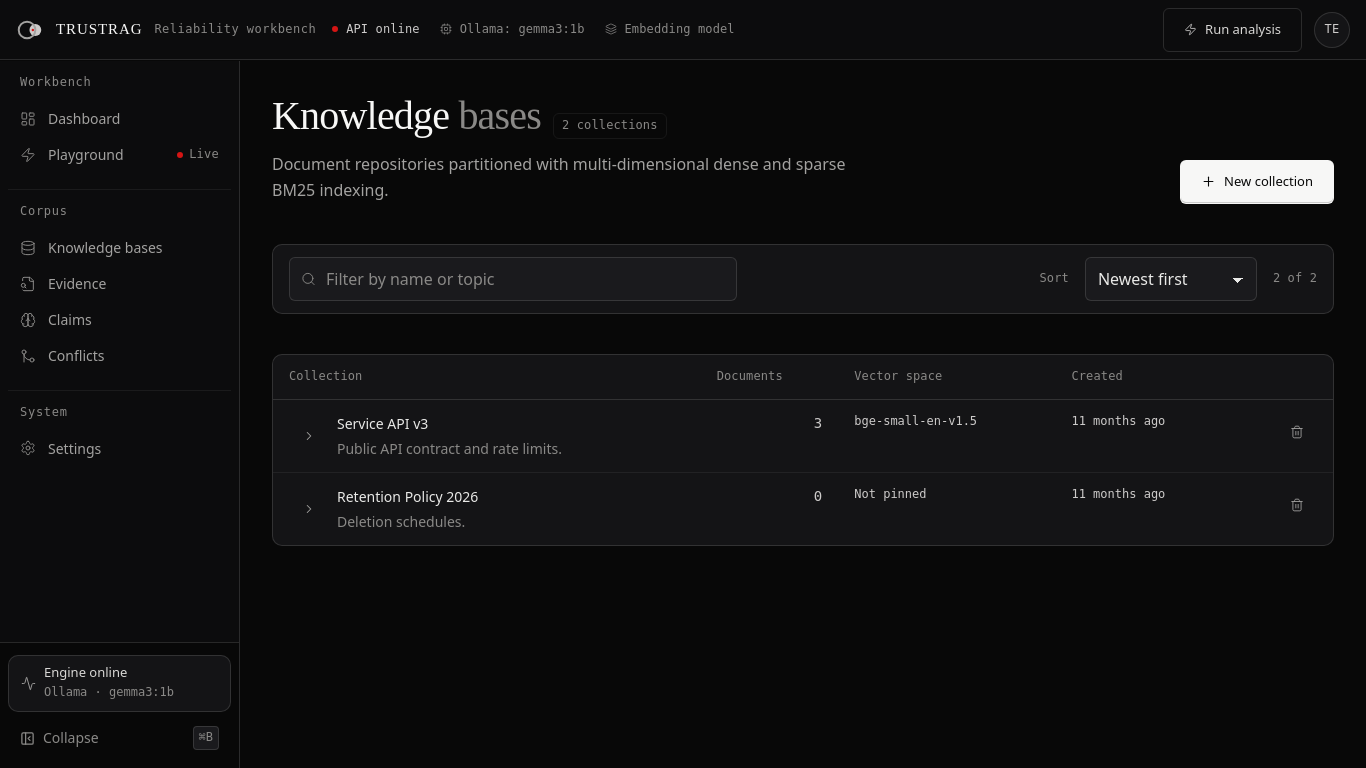
Test: KnowledgeBasesPage › offers an inline form rather than a dialog to create a collection
Expected: the text "Service API v3" is shown, [337,414,428,433]
Click the button "New collection": (1257, 182) [1180,160,1334,204]
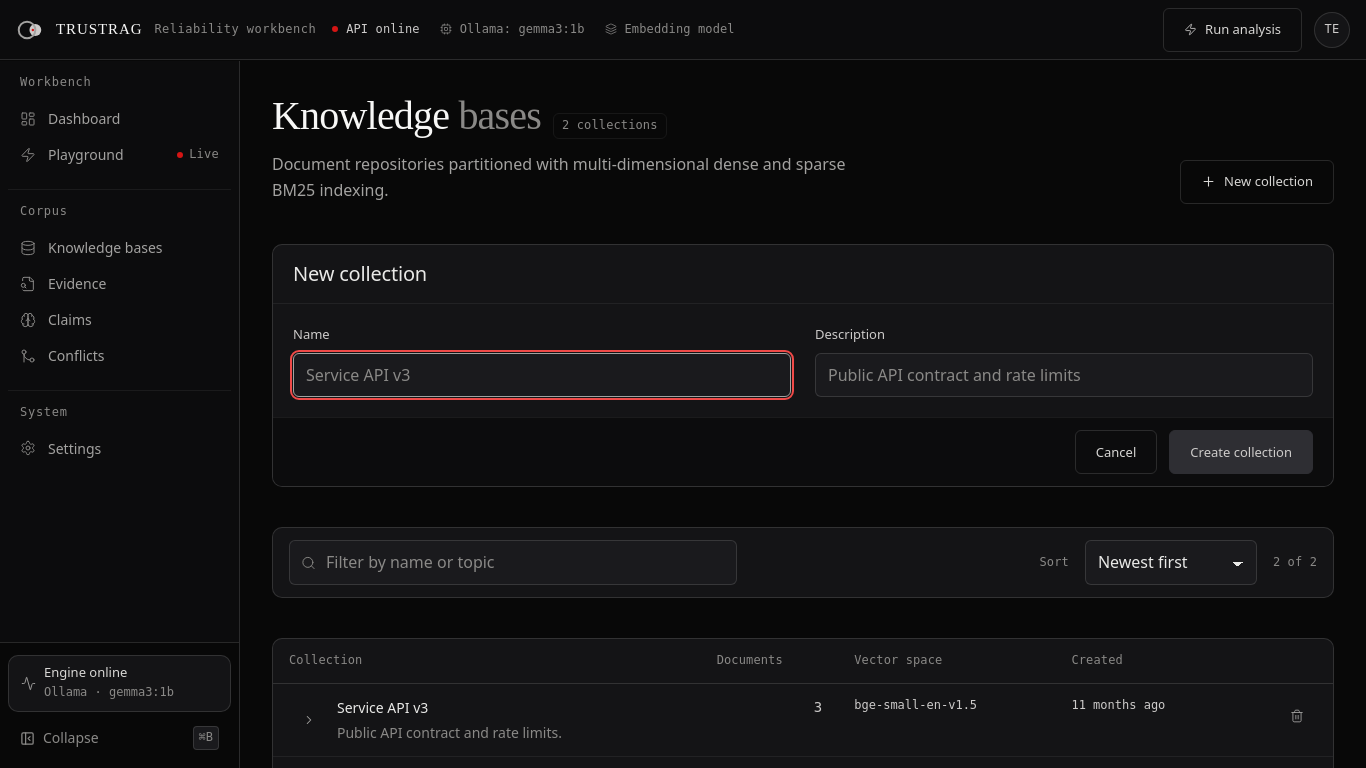
Result: the form named "Create a collection" is shown at [272,244,1334,487]
Result: the field labelled "Name" is shown at [293,353,791,397]
Result: the field labelled "Description" is shown at [815,353,1313,397]
